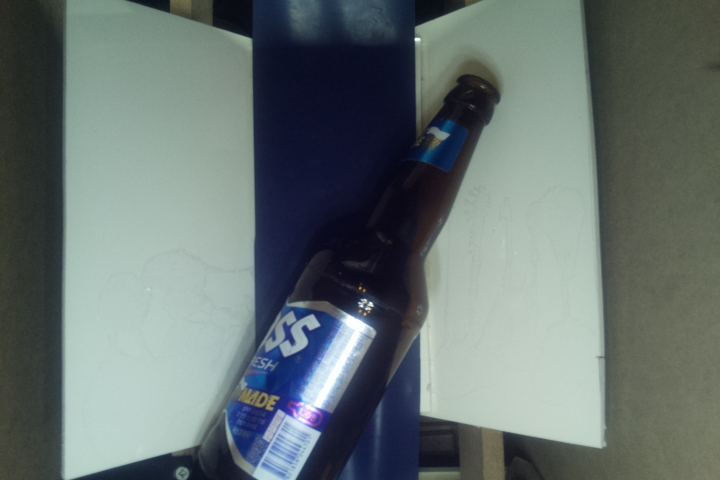makju: (167, 72, 508, 480)
